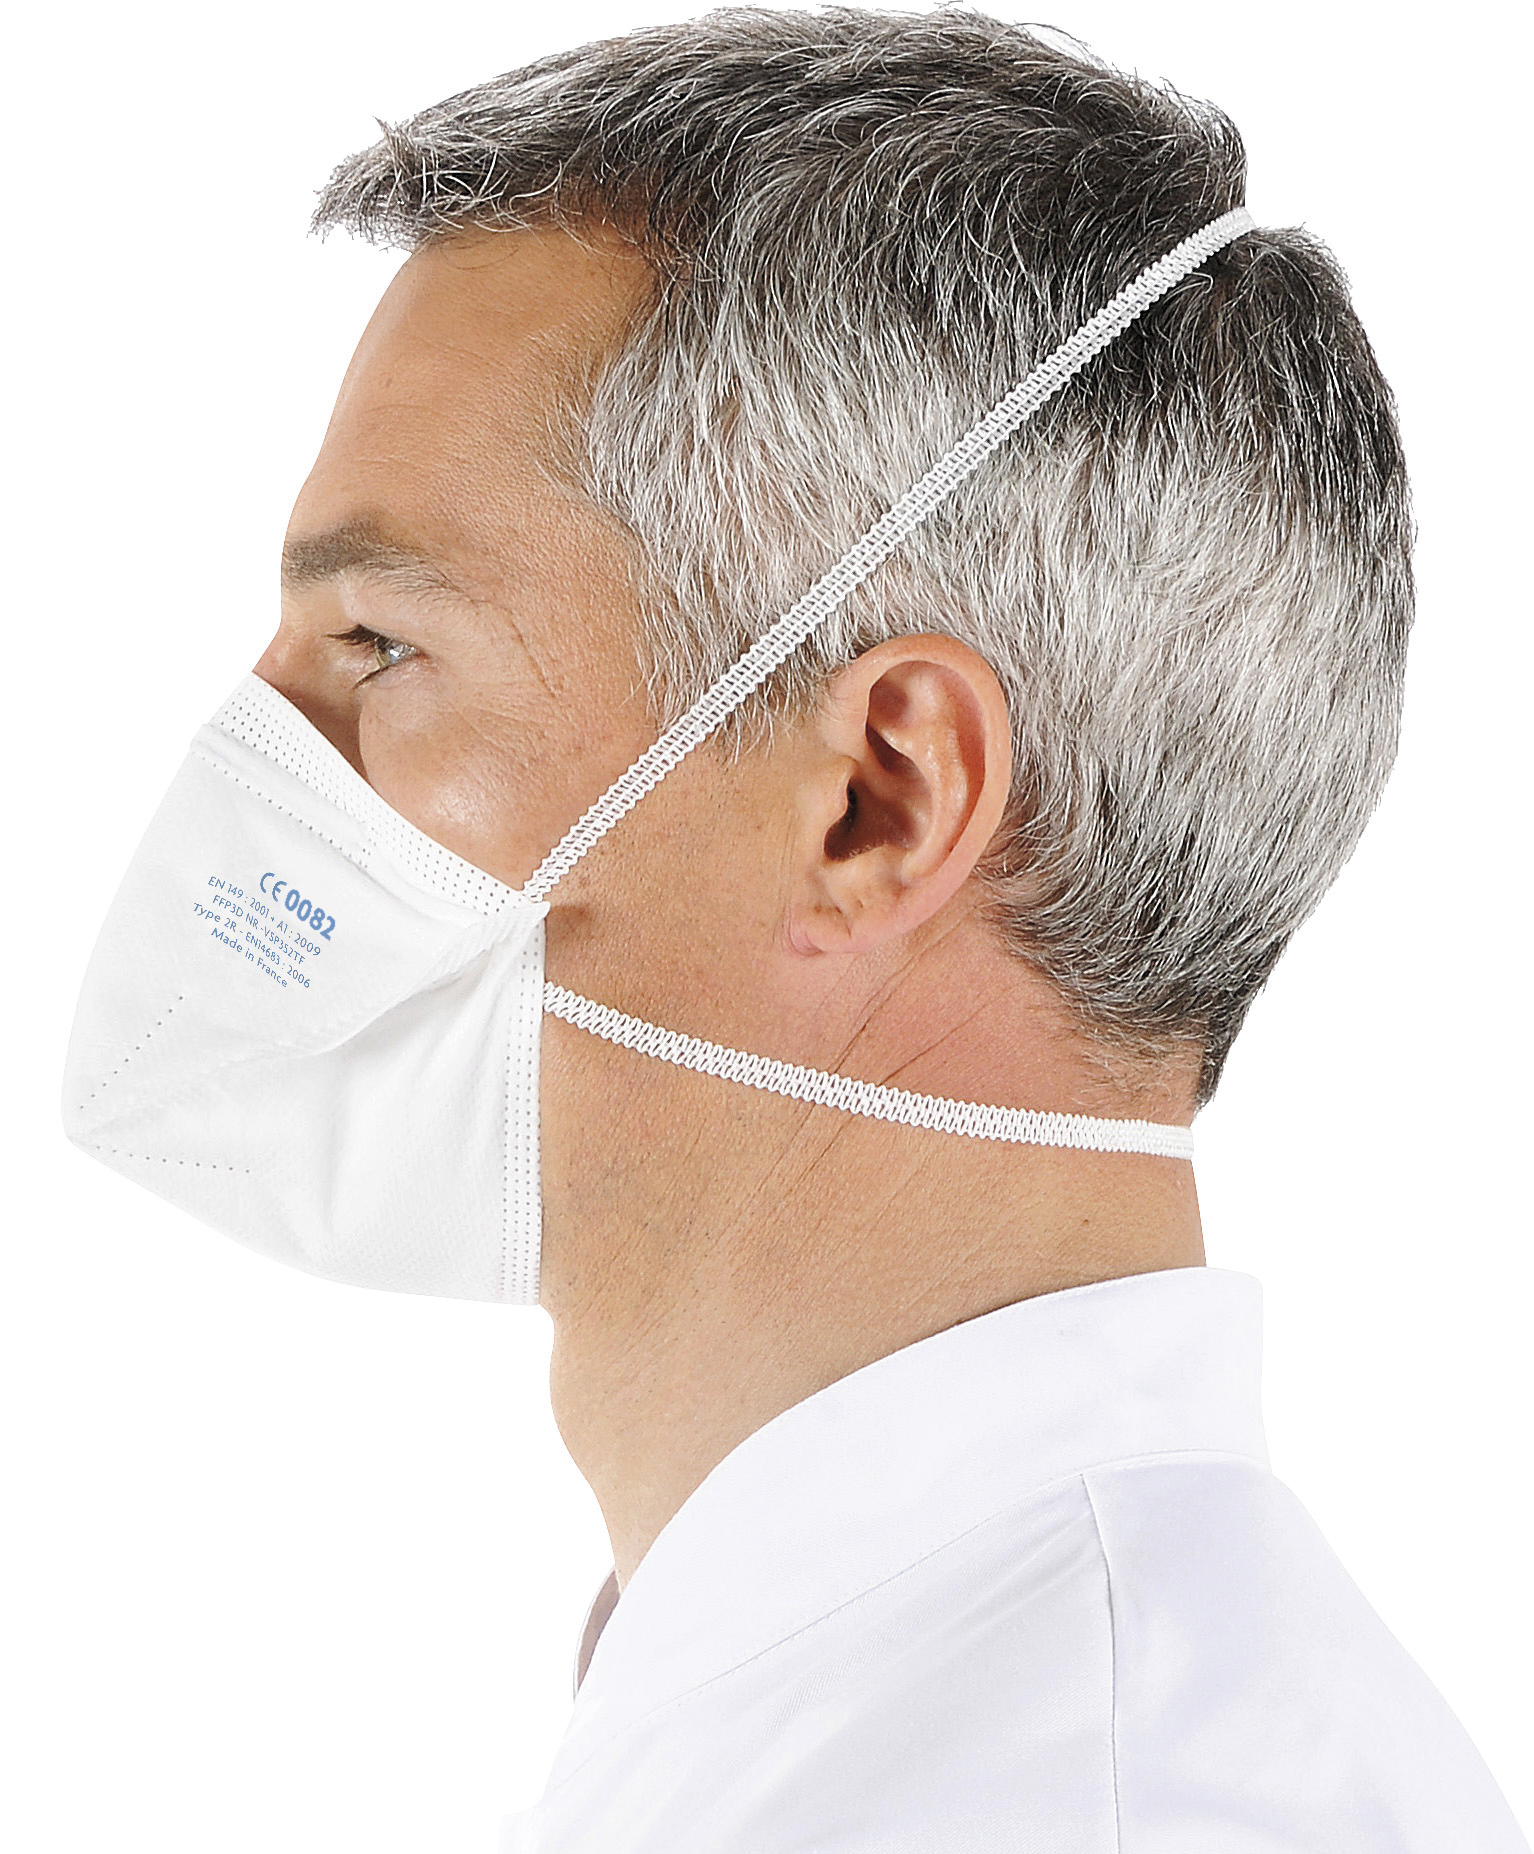with_mask: (246, 276, 846, 1316)
